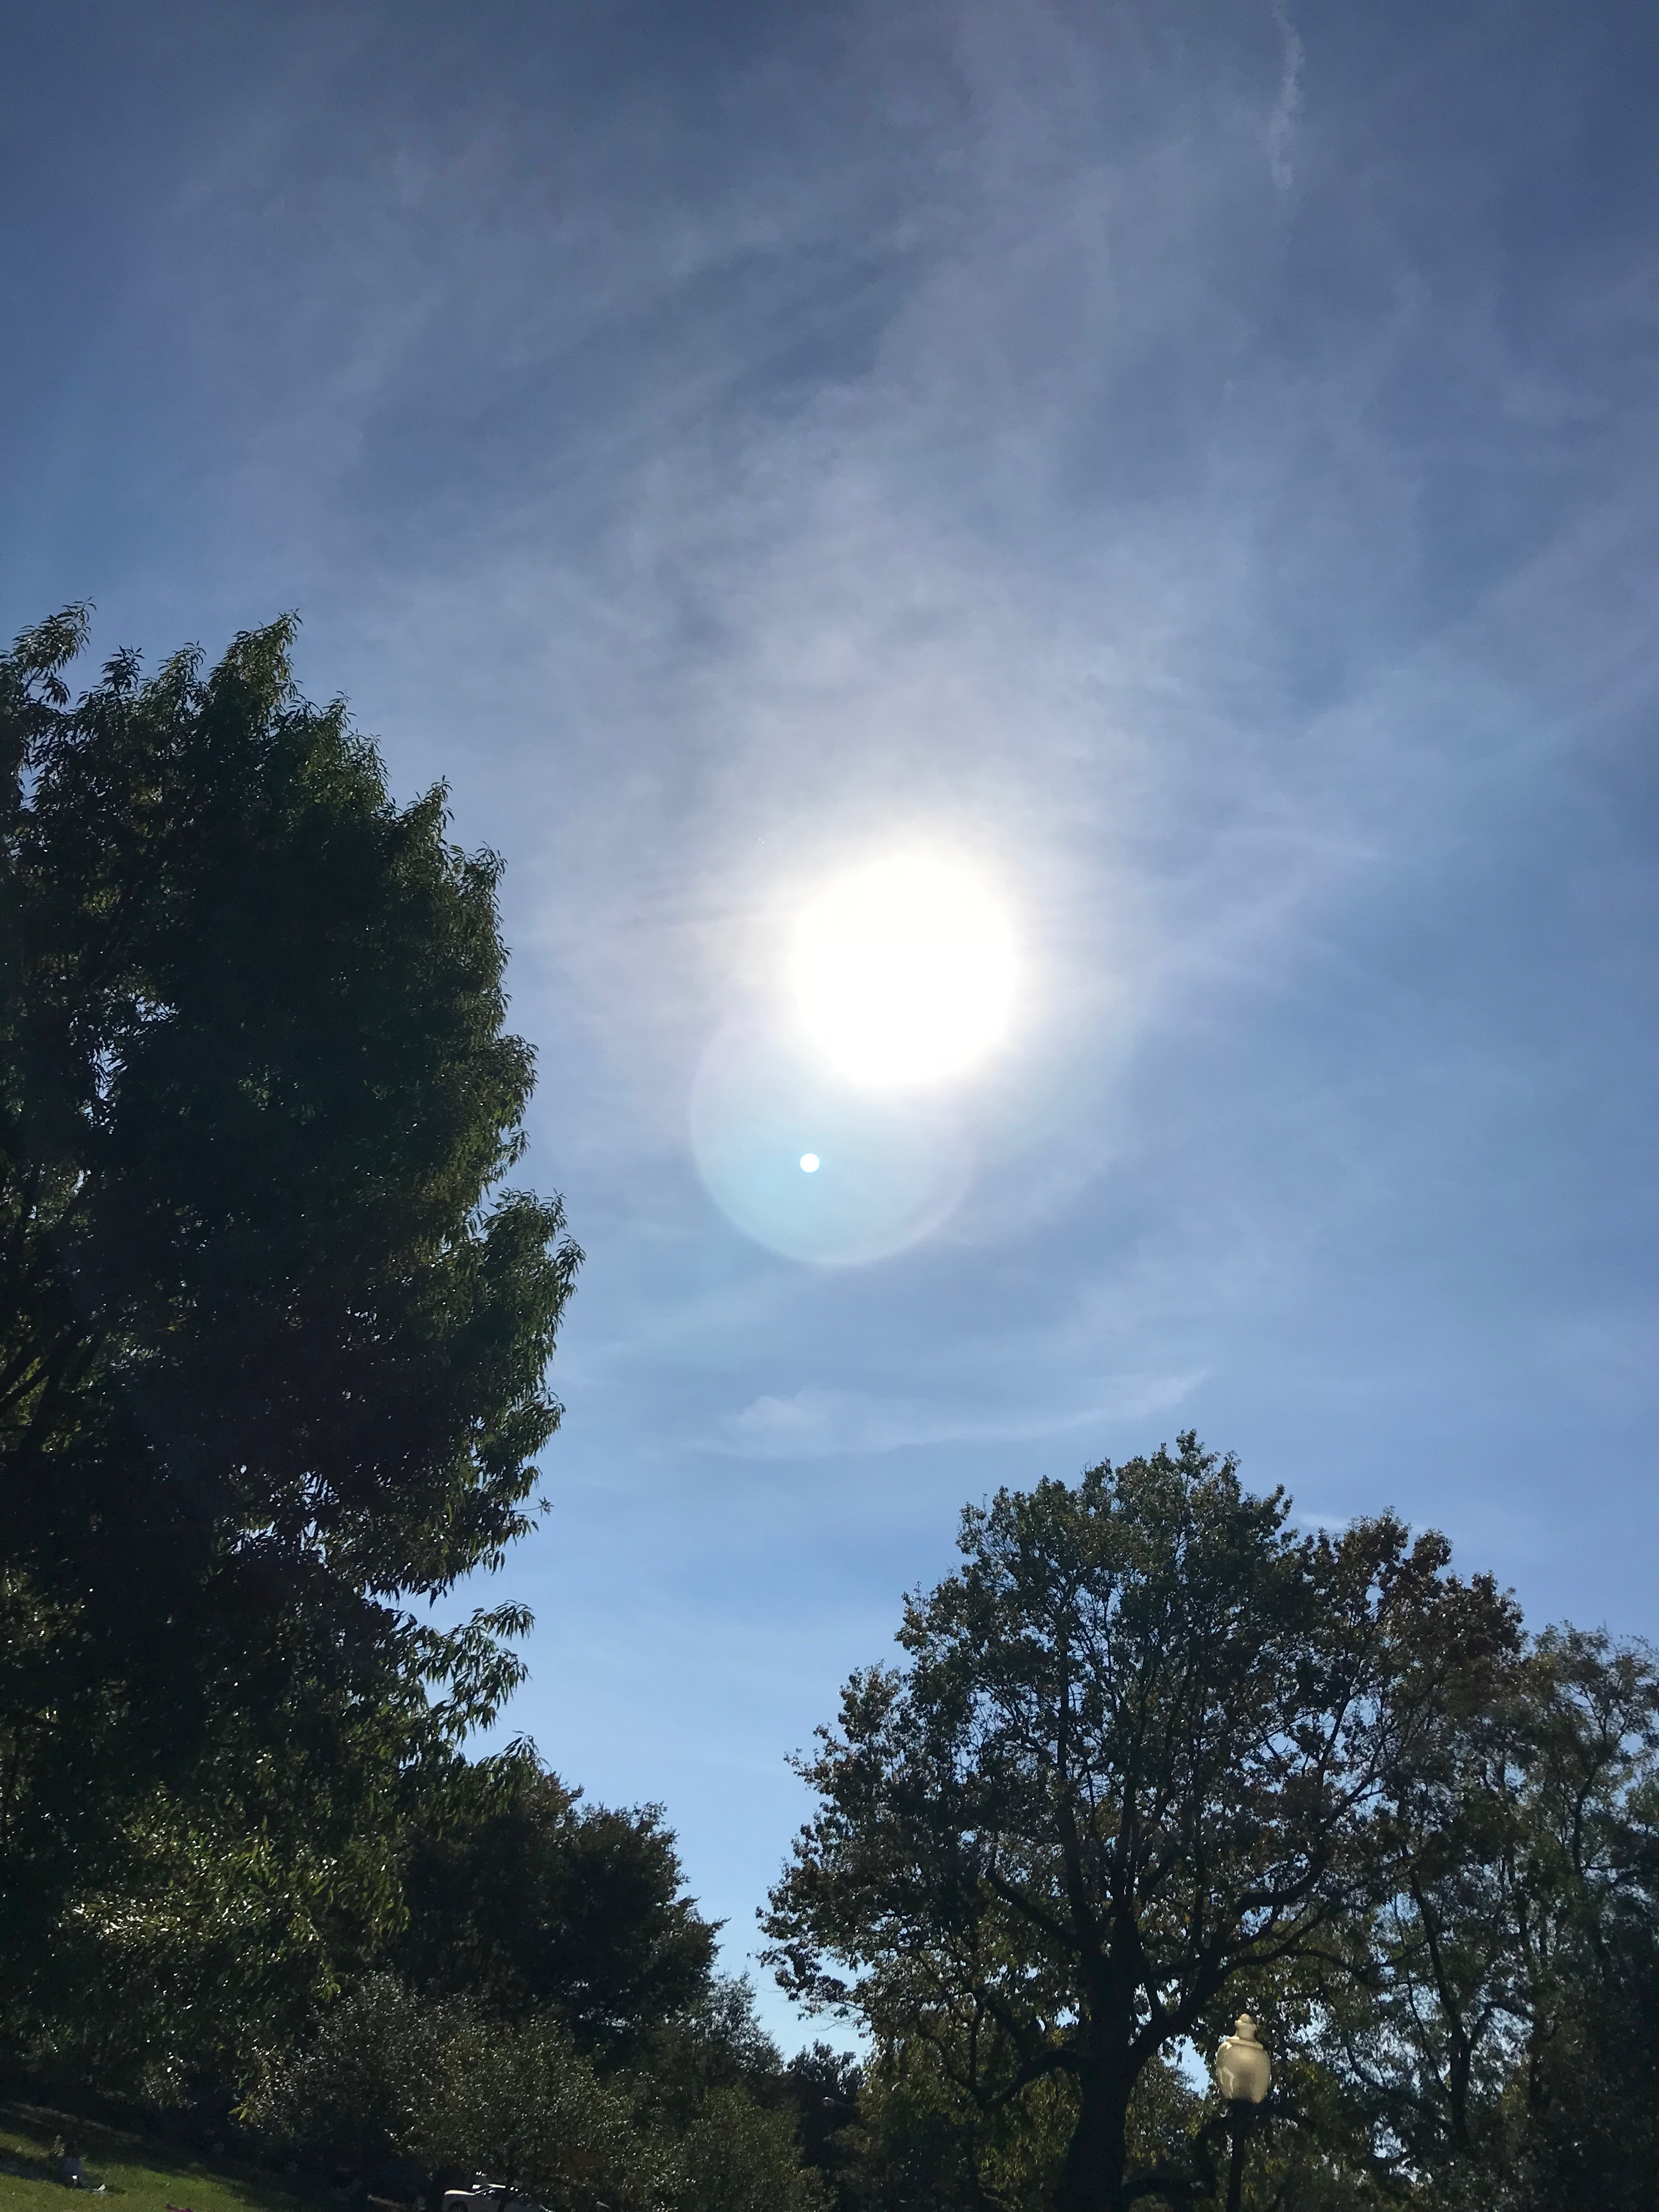flare: (798, 1151, 823, 1174)
